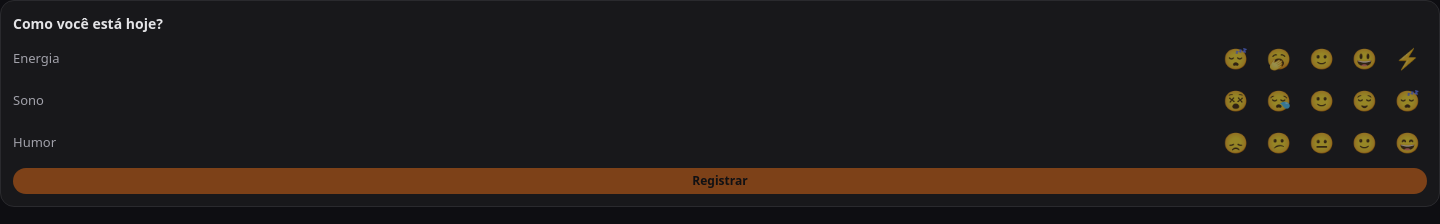
Test: DailyCheckin › só habilita Registrar com energia, sono e humor escolhidos
This screenshot has width=1440, height=224.
Expected: the text "Como você está hoje?" is shown, [13,14,163,33]
Click the radio button named "Energia 4 de 5" at {"x": 1365, "y": 59}, box [1345,42,1384,76]
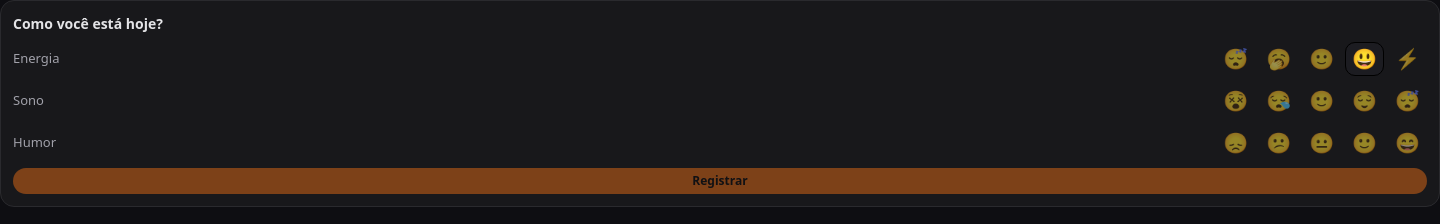
Click the radio button labelled "🙂" in the row of "Sono" at {"x": 1322, "y": 101}, box [1302,84,1341,118]
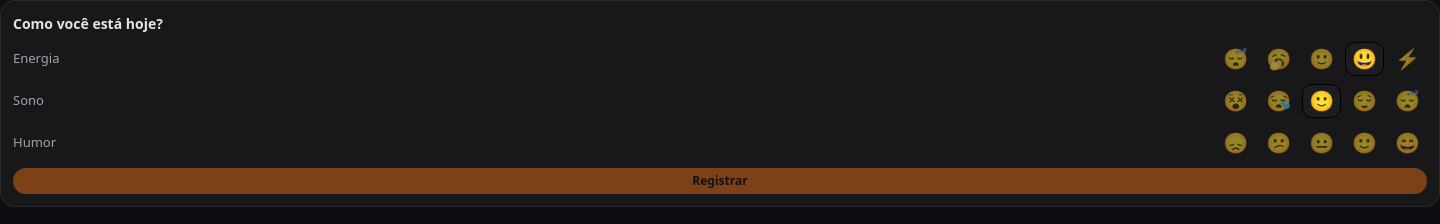
Expected: the button "Registrar" is disabled, [13,168,1427,194]
Click the radio button labelled "😄" at {"x": 1408, "y": 143}, box [1388,126,1427,160]
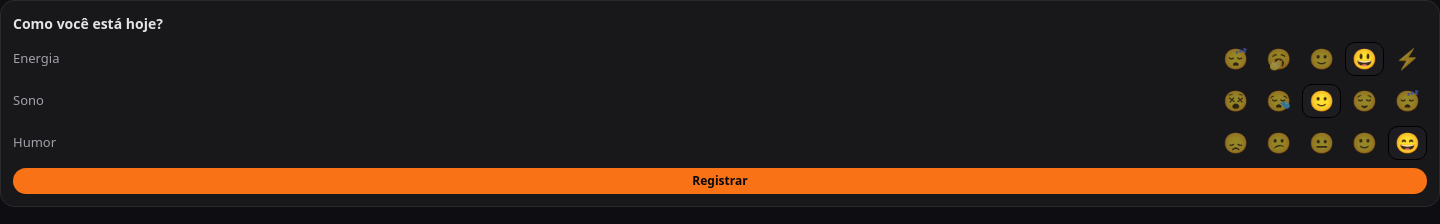
Expected: the button "Registrar" is enabled, [13,168,1427,194]
